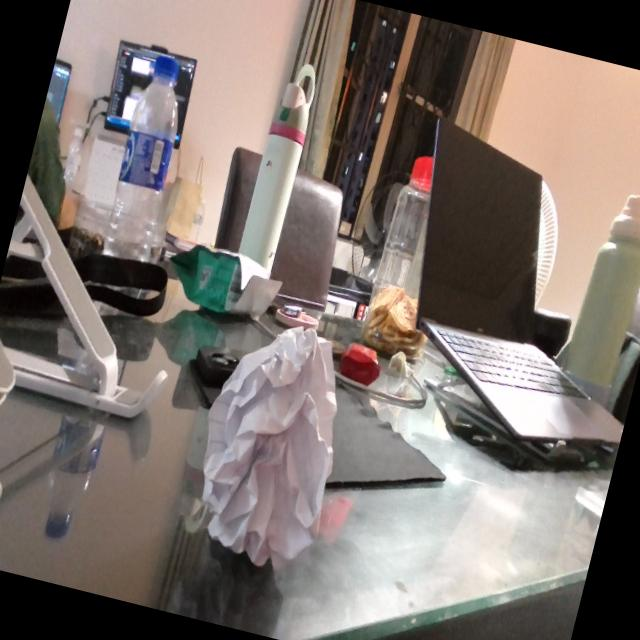crumpled_paper: (172, 304, 370, 588)
